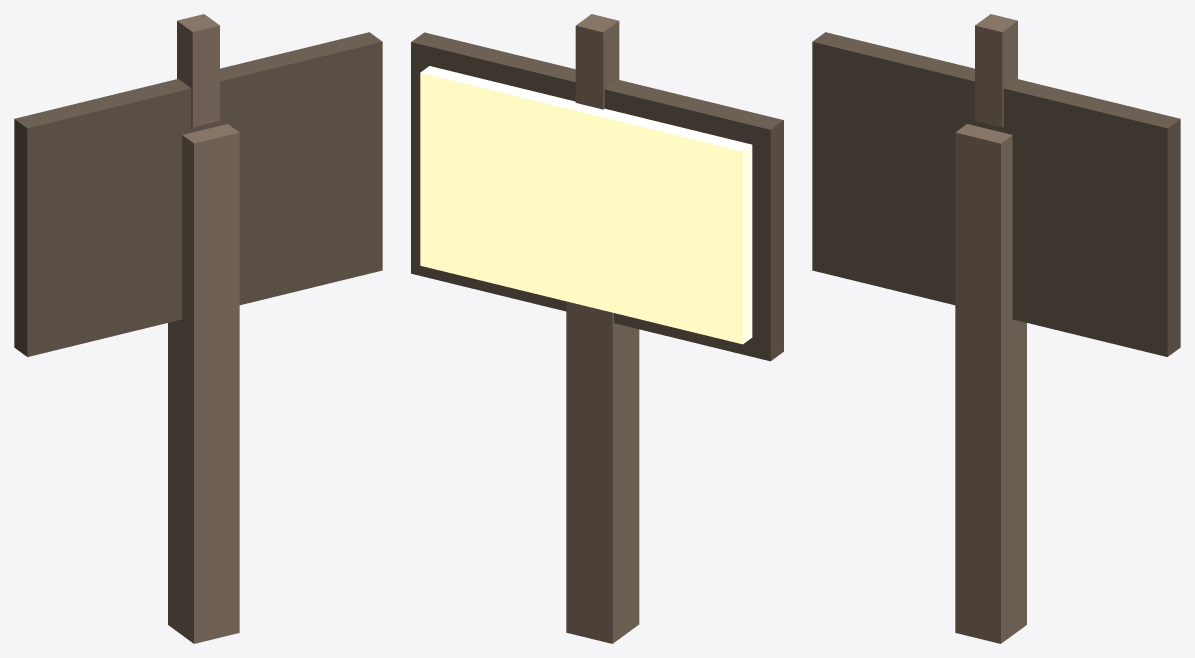
Rendered from sign.glb.
3 renders of one model, left to right at view 1: azimuth 30°, elevation 25°; view 2: azimuth 150°, elevation 25°; view 3: azimuth 330°, elevation 25°, orthographic.
Visible parts, largest first — view 1: sign; view 2: sign; view 3: sign.
Part boxes in pixels (x1,y1,x2,y2): sign: [14, 14, 382, 643]; sign: [411, 14, 783, 643]; sign: [812, 14, 1180, 643].
Bounding box in the file's own units: 0.78 × 1.26 × 0.13.
